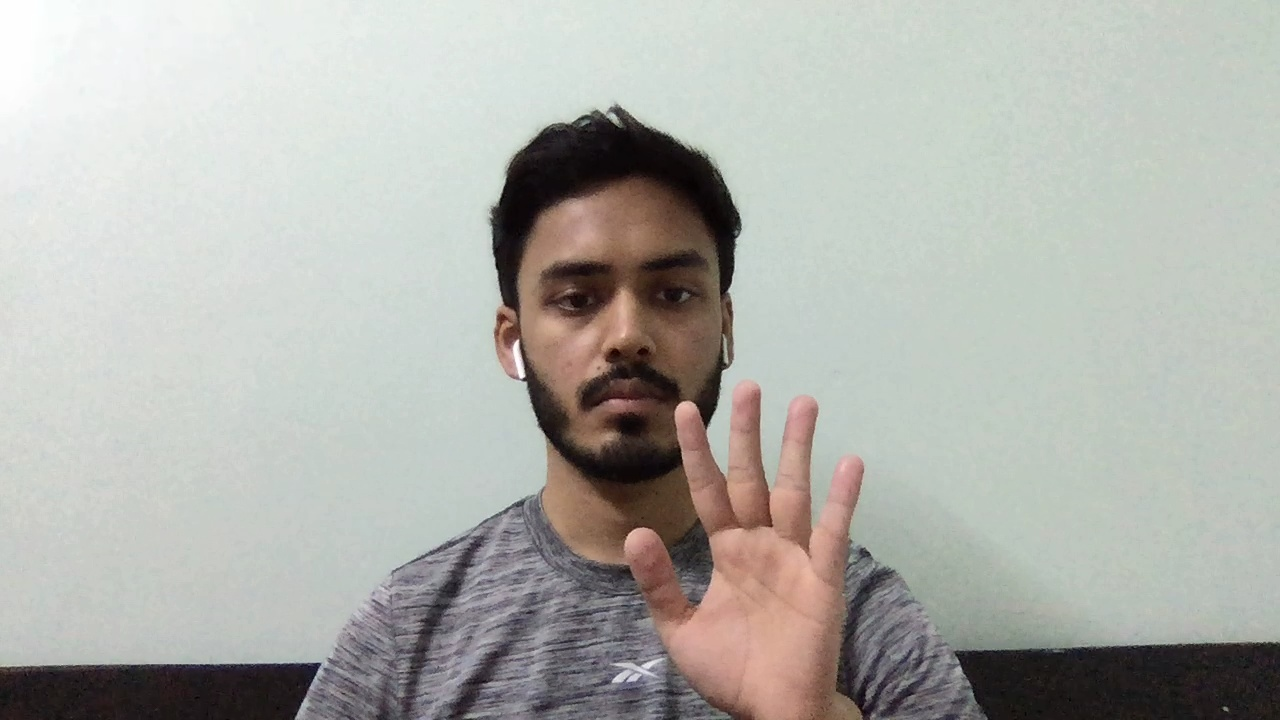Hello: (617, 373, 880, 715)
